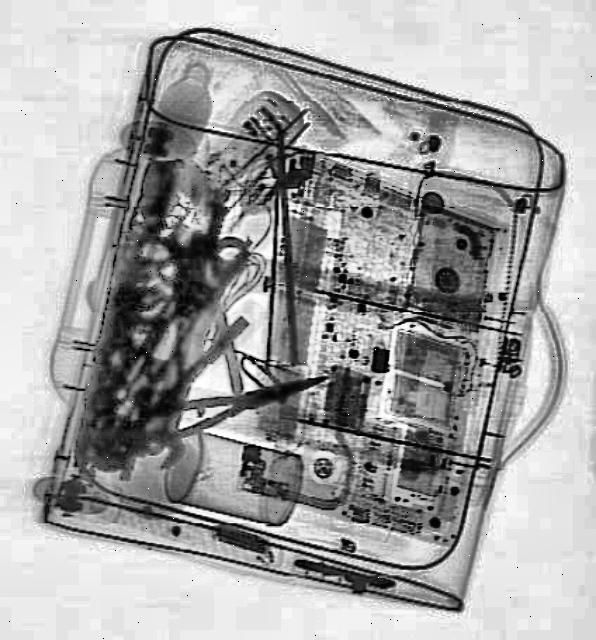Pliers: (170, 357, 336, 437)
